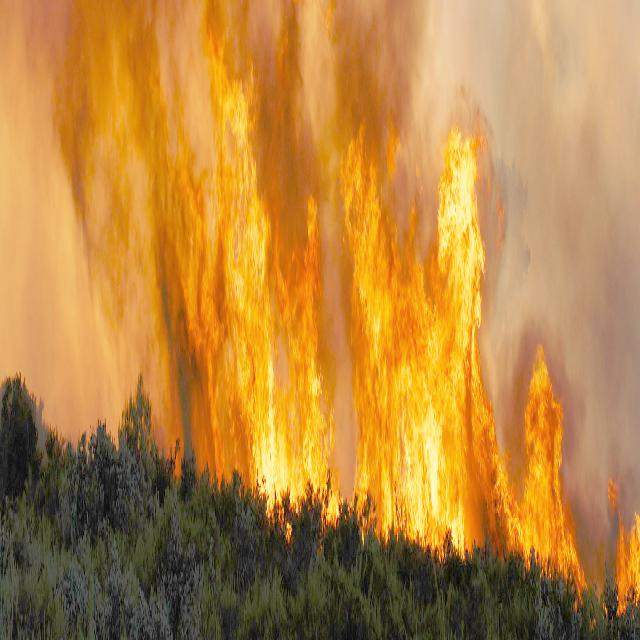api: (348, 156, 487, 535), (211, 7, 277, 490), (278, 193, 317, 498), (529, 371, 576, 580), (493, 443, 527, 549), (318, 379, 340, 518), (619, 527, 640, 620)
asap: (3, 1, 206, 453), (295, 1, 637, 150), (511, 175, 640, 370), (583, 371, 620, 623)
